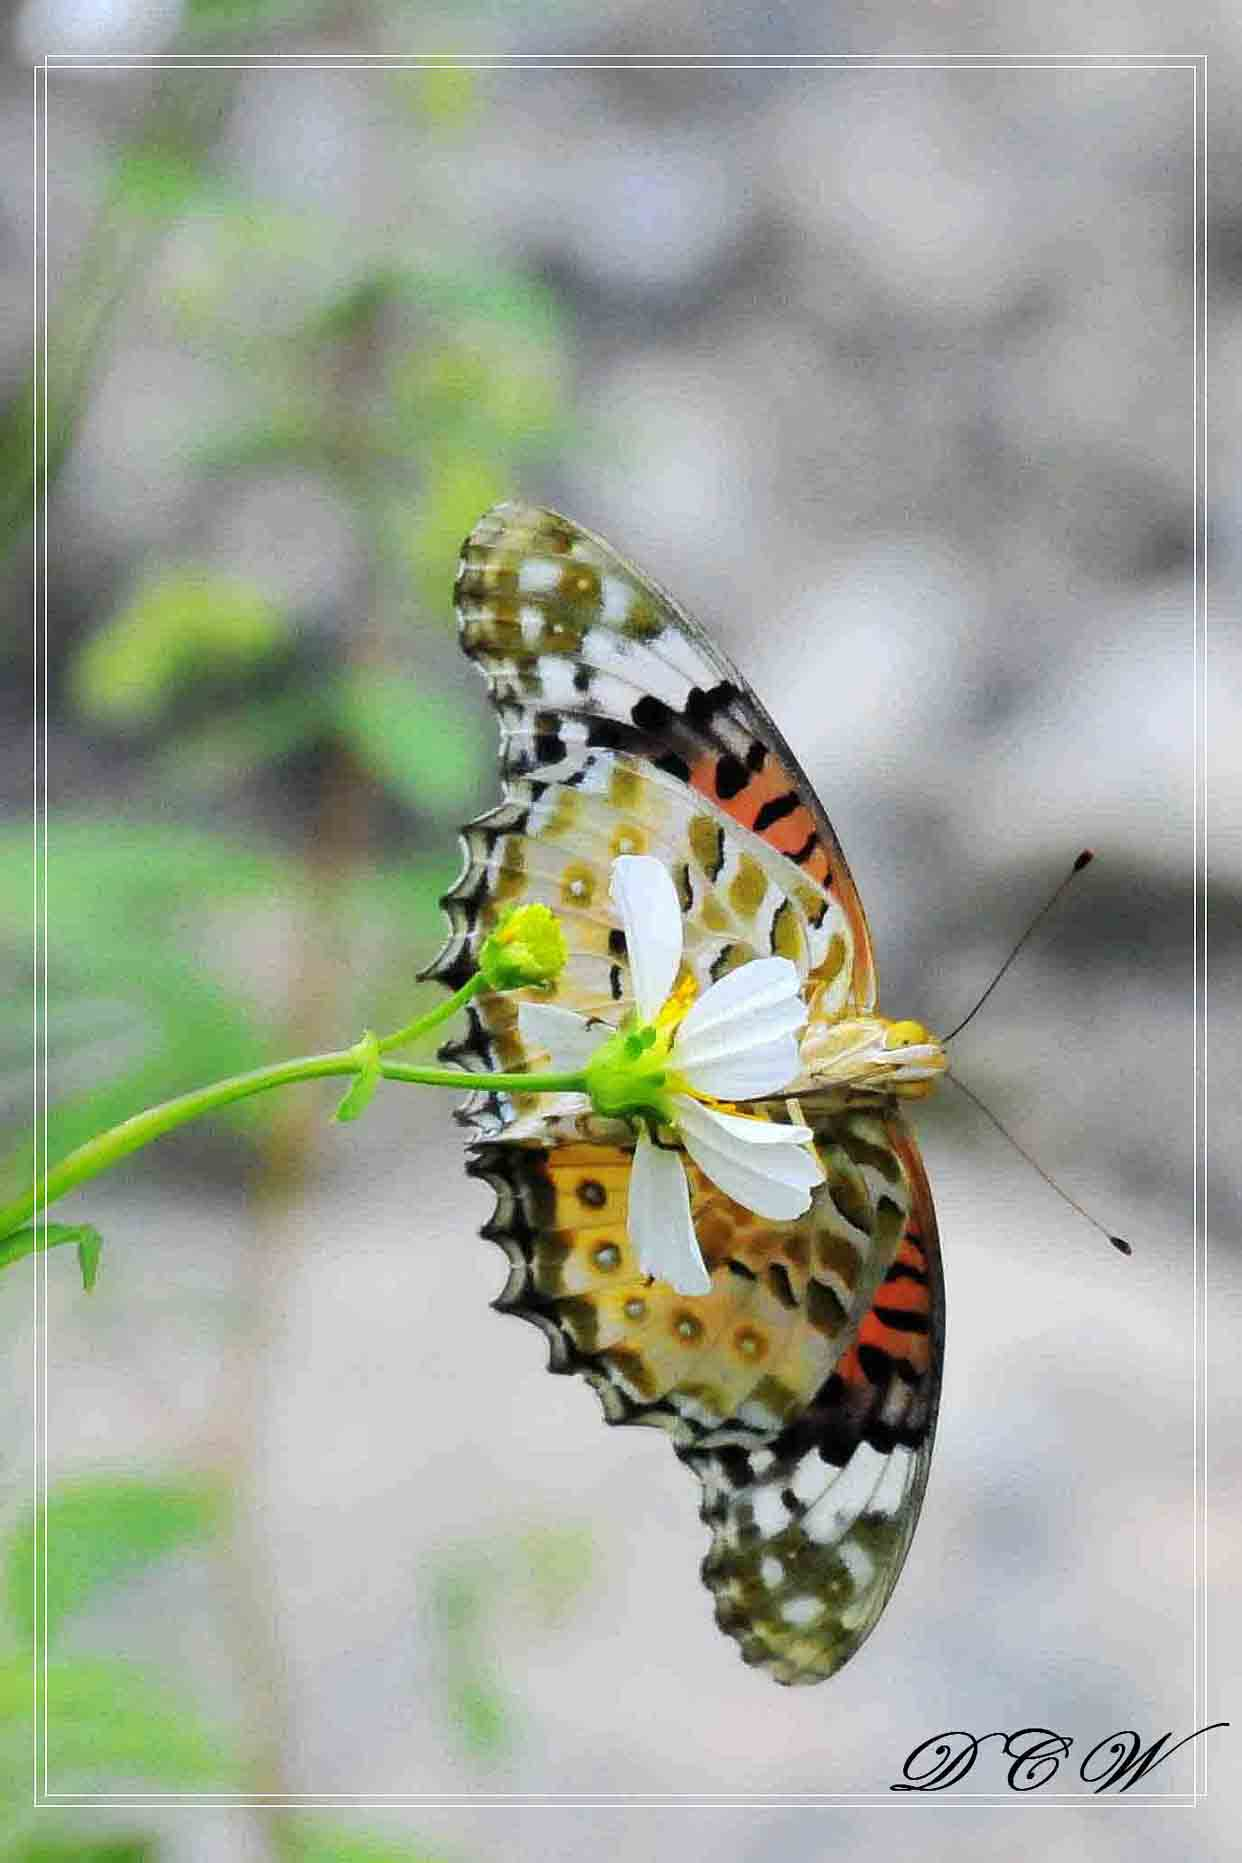Argyreus hyperbius: (405, 480, 1135, 1704)
butterfly: (408, 482, 1137, 1705)
